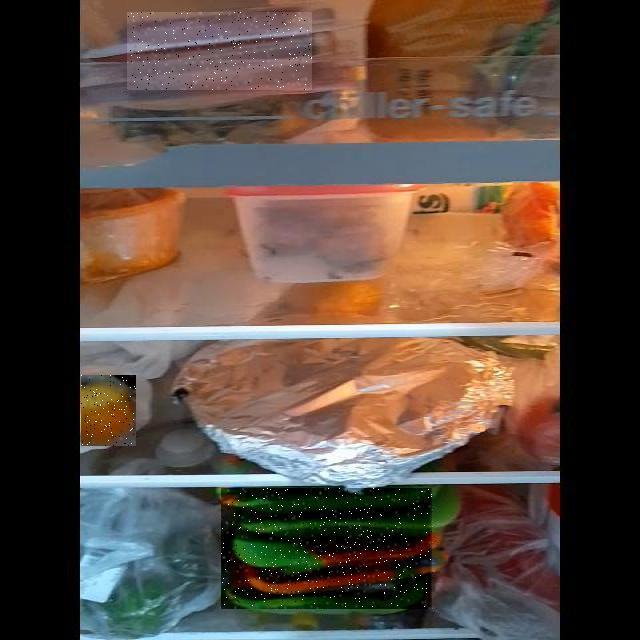Lemon: (81, 375, 136, 446)
Meat: (222, 488, 434, 609)
Sausages: (127, 12, 312, 90)
